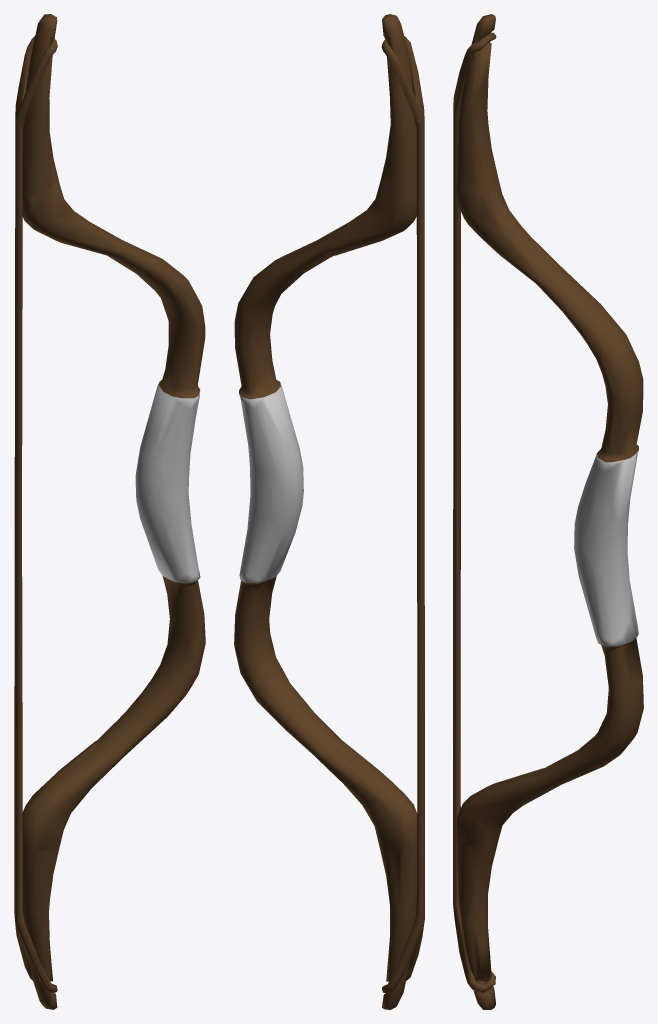
The model's file is BowMesh.fbx.
3 renders of one model, left to right at view 1: azimuth 30°, elevation 25°; view 2: azimuth 150°, elevation 25°; view 3: azimuth 330°, elevation 25°, orthographic.
Visible parts, largest first — view 1: 17017_PersianBowandArrow_v2.001; view 2: 17017_PersianBowandArrow_v2.001; view 3: 17017_PersianBowandArrow_v2.001.
Boxes of the visible parts, x1,y1,x2,y2 form: 17017_PersianBowandArrow_v2.001: (14,14,205,1009); 17017_PersianBowandArrow_v2.001: (234,14,424,1009); 17017_PersianBowandArrow_v2.001: (453,14,643,1009).
Bounding box in the file's own units: 117 × 597 × 30.05.
